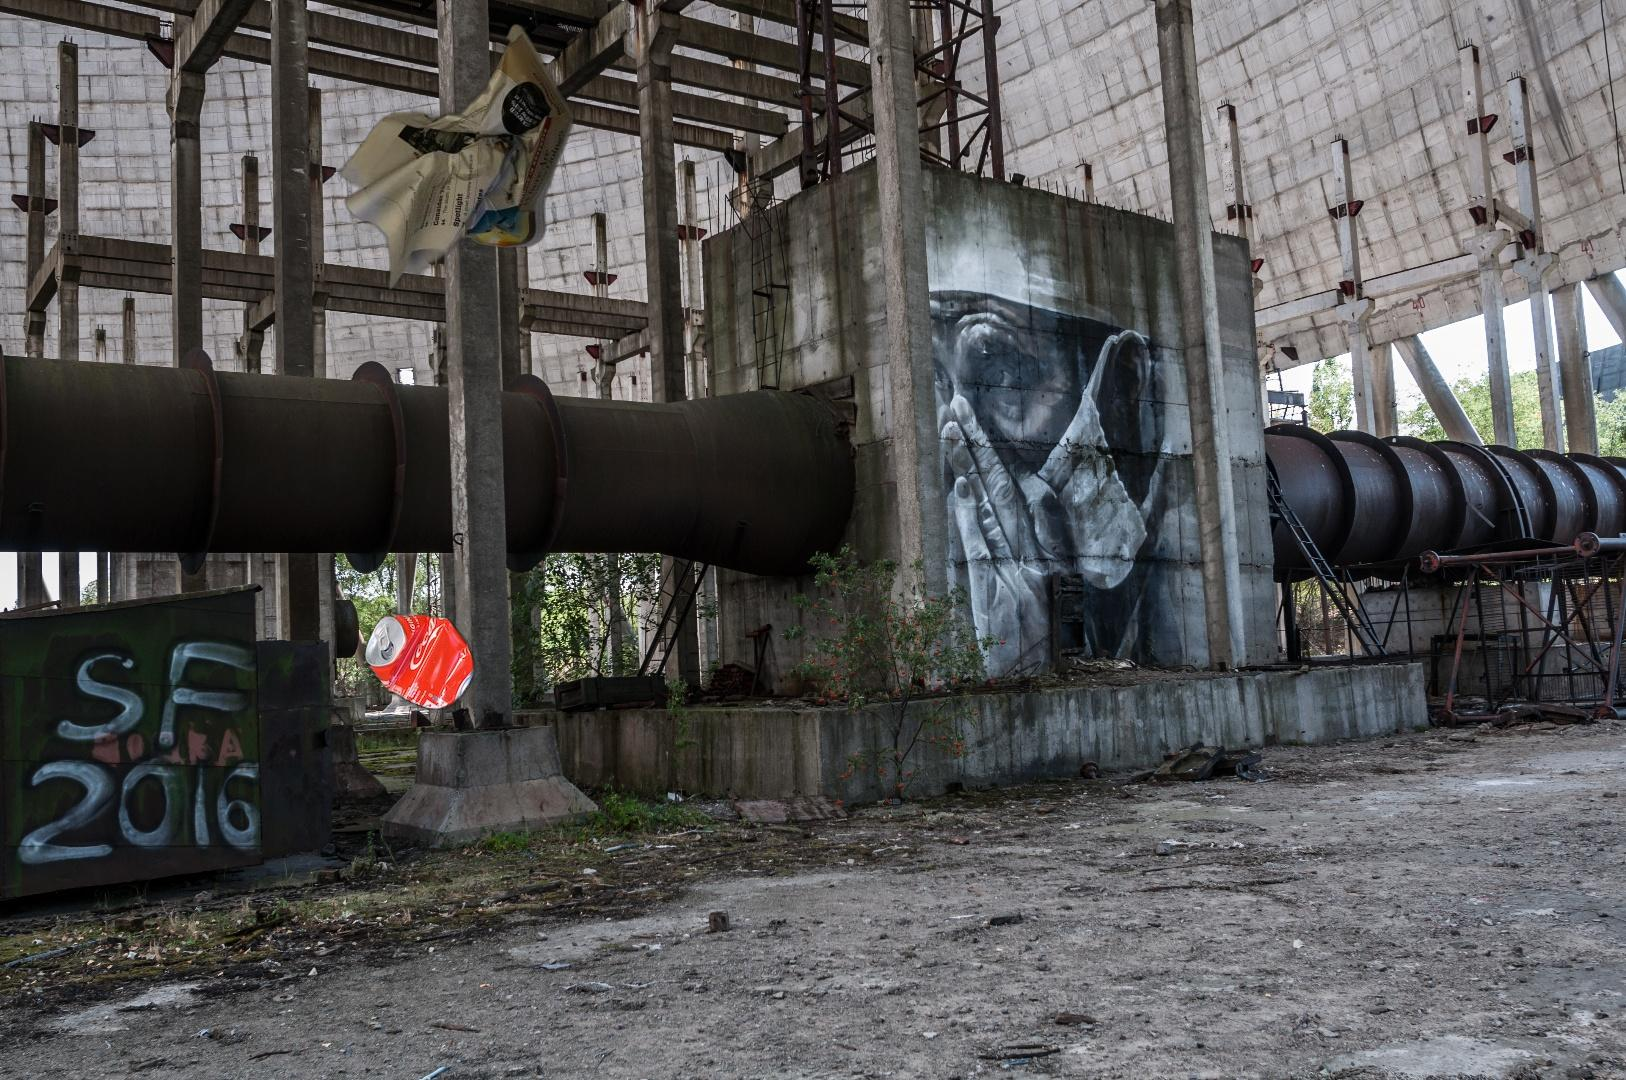metal-cans: (262, 598, 679, 1046)
paper: (335, 20, 579, 295)
